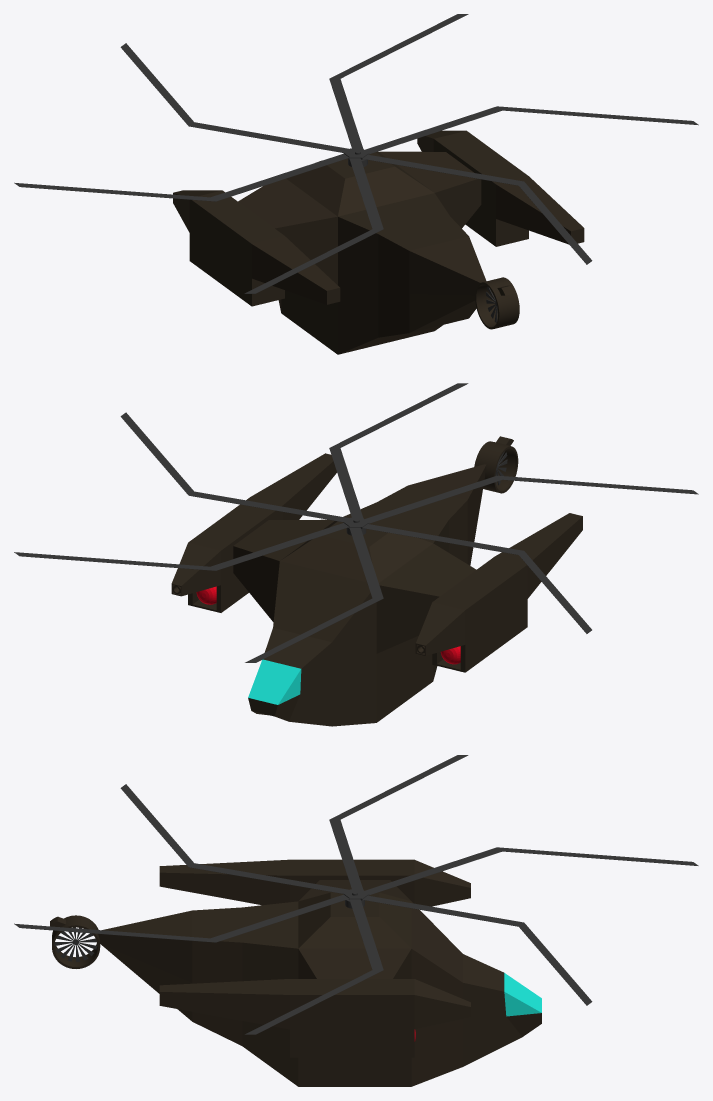
Rendered from heli.fbx.
3 views of the same model, one above another, from view 1: azimuth 30°, elevation 25°; view 2: azimuth 150°, elevation 25°; view 3: azimuth 270°, elevation 25° (orthographic).
Parts seen in each view (by area): view 1: Cube, Cylinder.001, Cube.002; view 2: Cube, Cylinder.001, Cube.002; view 3: Cube, Cylinder.001, Cube.002, Cube.001.
Part boxes in pixels (bbox=[...]): Cube: bbox=[173, 130, 584, 354]; Cylinder.001: bbox=[14, 14, 698, 293]; Cube.002: bbox=[475, 277, 519, 329]; Cube: bbox=[171, 453, 582, 726]; Cylinder.001: bbox=[14, 383, 698, 662]; Cube.002: bbox=[474, 436, 518, 493]; Cube: bbox=[98, 859, 541, 1086]; Cylinder.001: bbox=[14, 755, 698, 1034]; Cube.002: bbox=[50, 915, 100, 968]; Cube.001: bbox=[54, 927, 97, 961].
Bounding box in the file's own units: 868 × 247 × 898.
